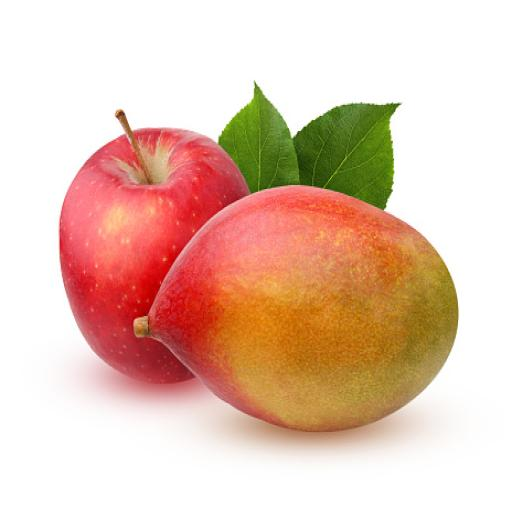apple: (60, 111, 249, 382)
mango: (155, 187, 459, 433)
